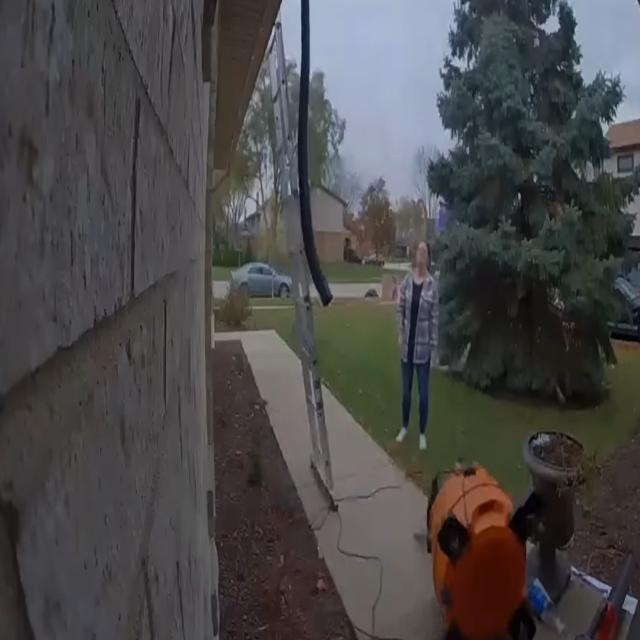standing: (396, 241, 438, 450)
